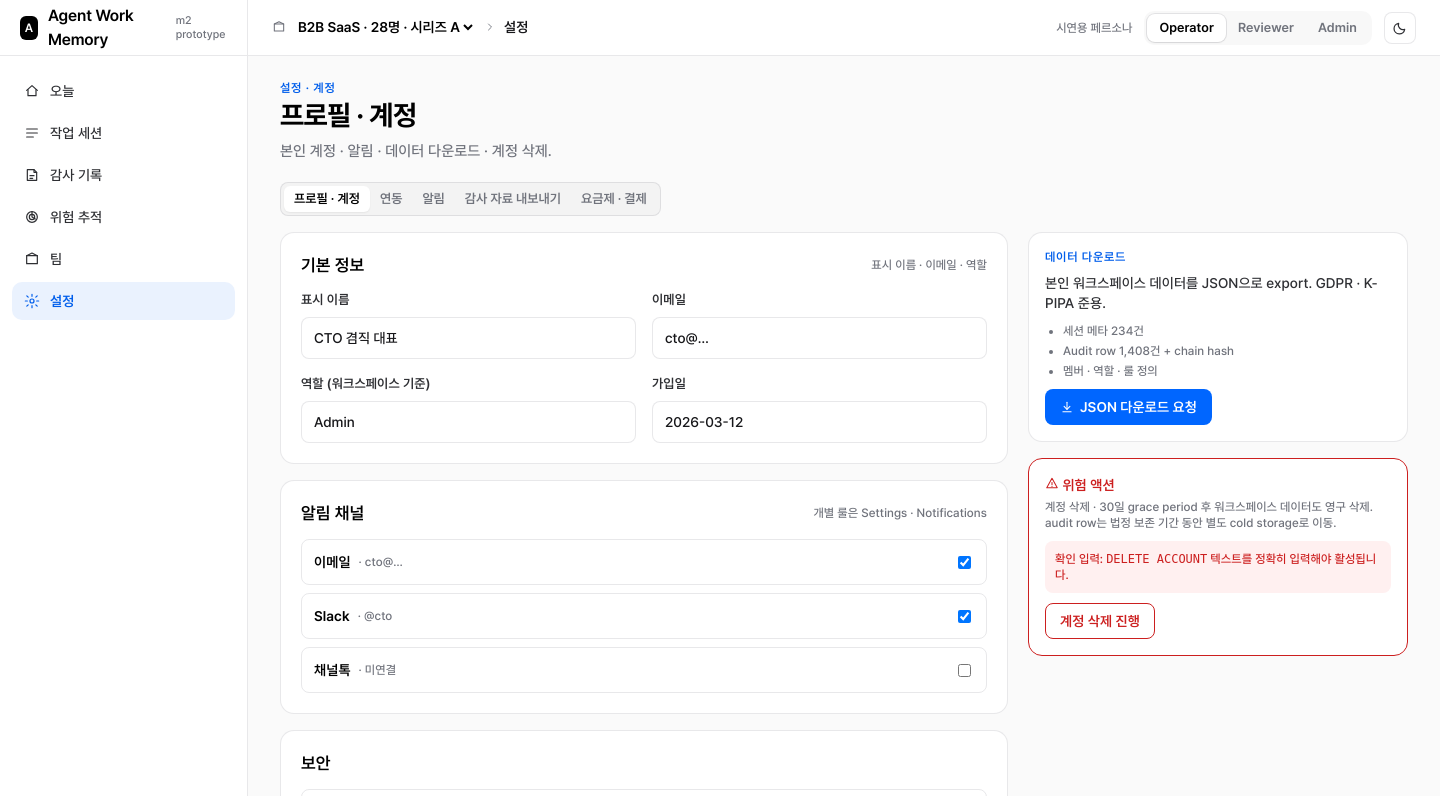
Test: AppShell + product IA › Settings tab navigation: click tab updates query + heading
Click the tab "감사 자료 내보내기". click: click(513, 199)
box: x1=455 y1=186 x2=571 y2=212
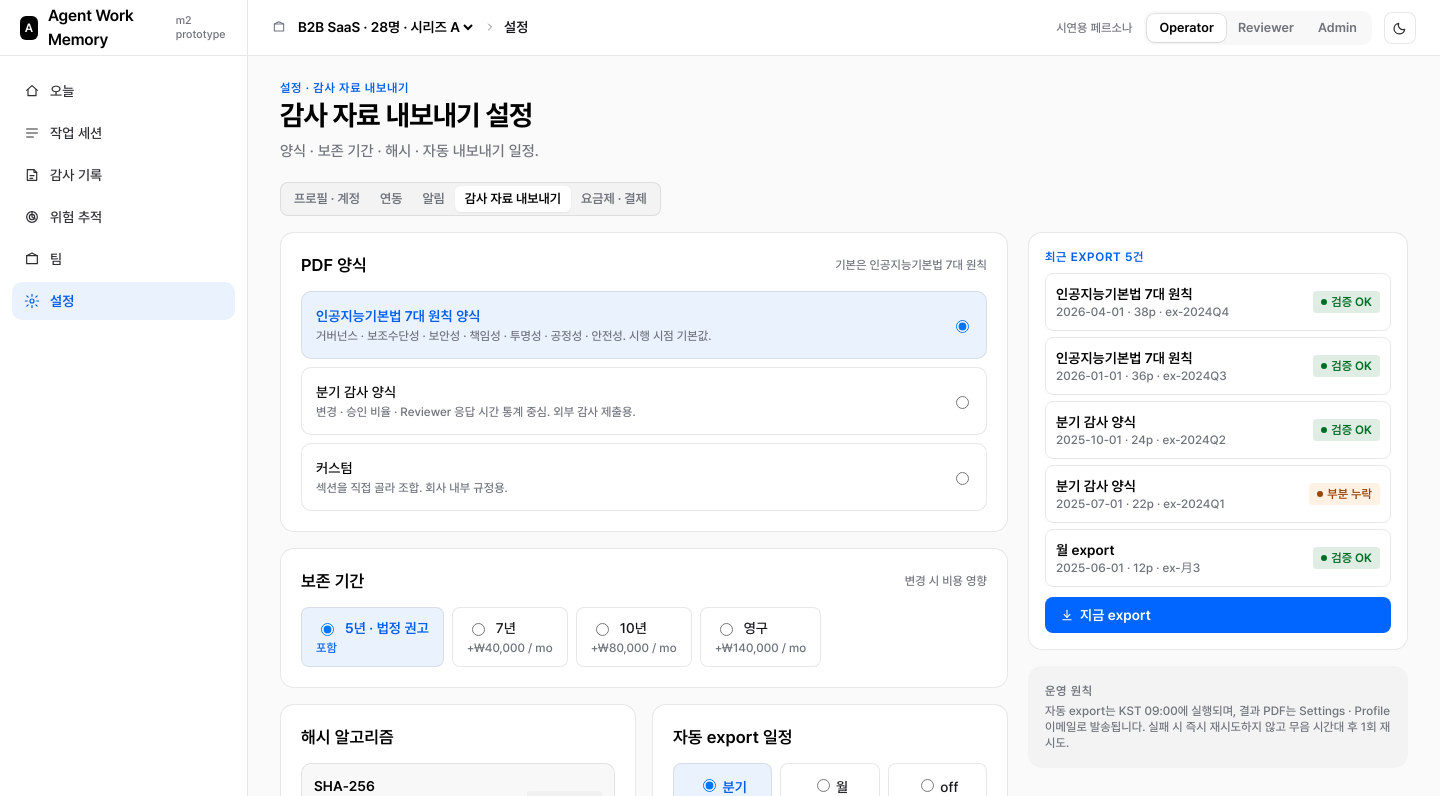
Check: the heading "감사 자료 내보내기 설정" is shown, box x1=280 y1=96 x2=539 y2=134
Click the tab "프로필 · 계정". click: click(327, 199)
box: x1=284 y1=186 x2=370 y2=212
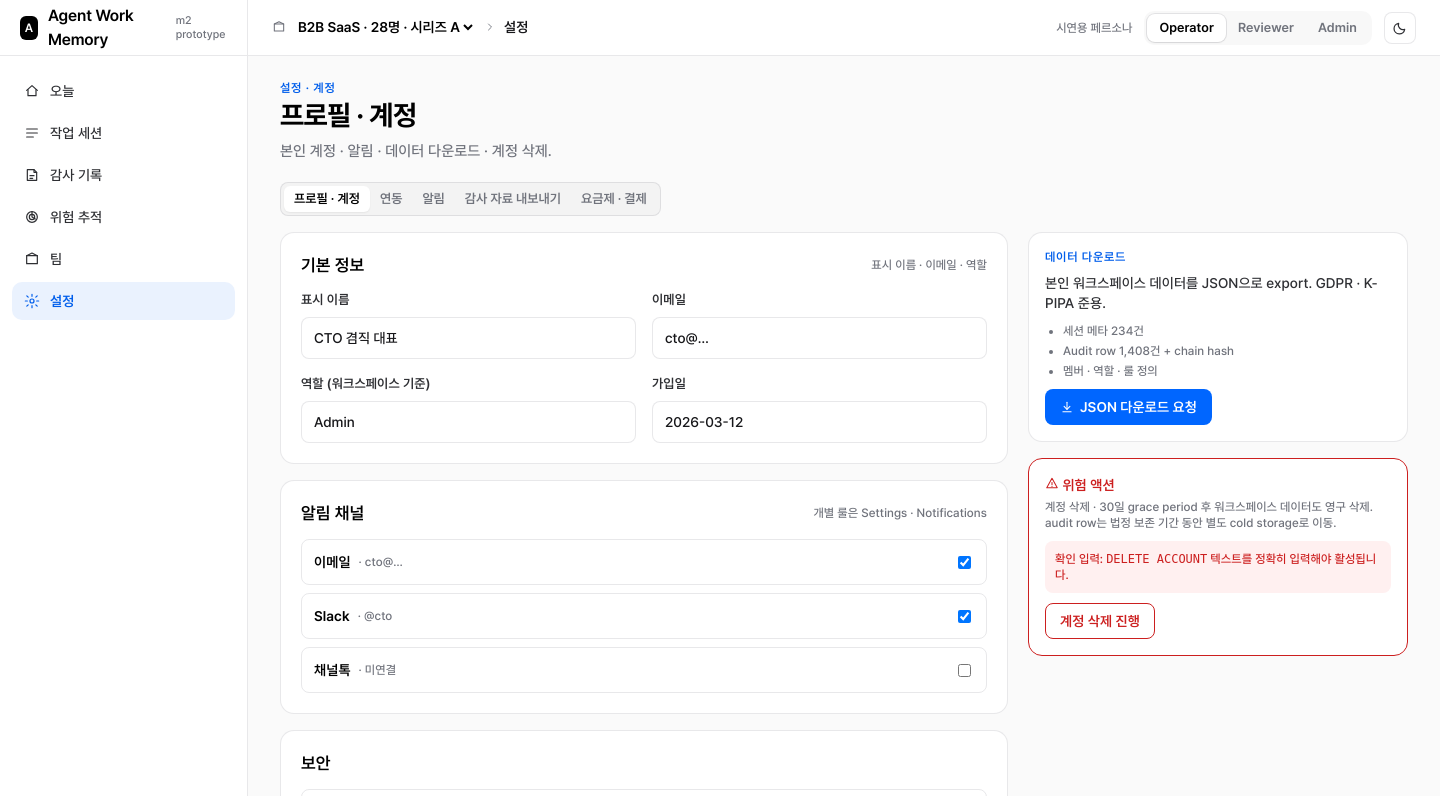
Check: the heading "프로필 · 계정" is shown, box x1=280 y1=98 x2=416 y2=132
